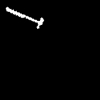half_double_crochet: (6, 7, 43, 27)
